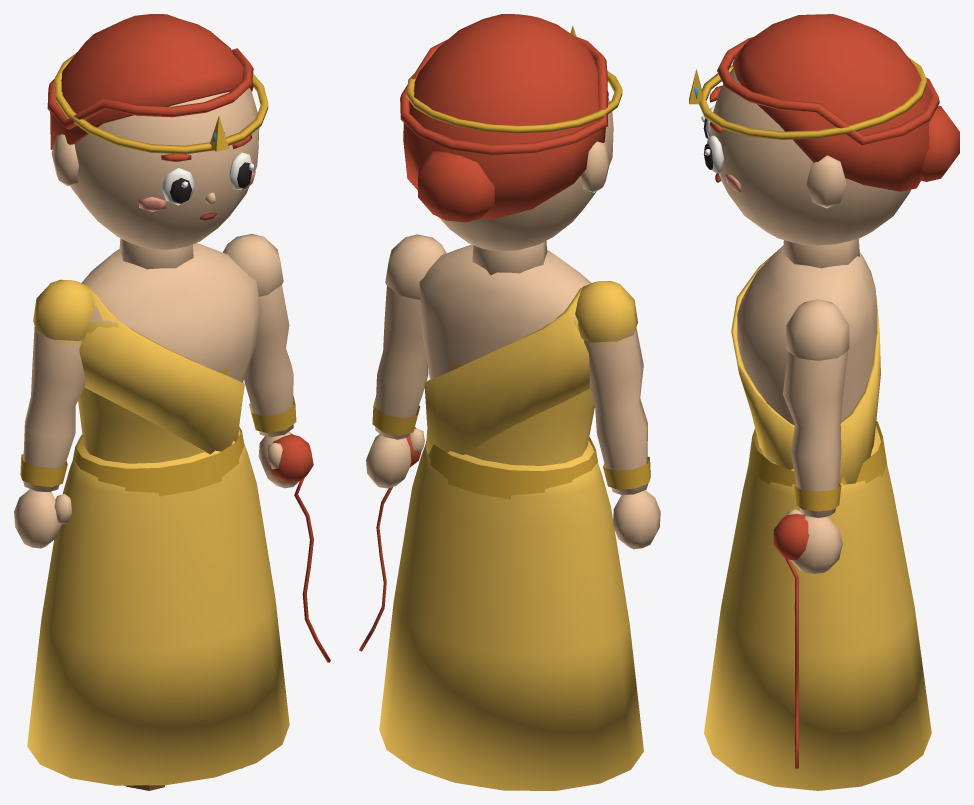
The model's file is ariadne.glb.
3 renders of one model, left to right at view 1: azimuth 30°, elevation 25°; view 2: azimuth 150°, elevation 25°; view 3: azimuth 270°, elevation 25°, orthographic.
Parts seen in each view (by area): view 1: huefte, rumpf, kopf, haare, armL, armR, kopfschmuck, itemR, augeL, augeR; view 2: huefte, rumpf, haare, armL, armR, kopf, kopfschmuck, itemR; view 3: huefte, haare, rumpf, kopf, armR, kopfschmuck, itemR, augeR.
Boxes of the visible parts, x1,y1,x2,y2 form: huefte: [27, 430, 289, 785]; rumpf: [73, 243, 261, 496]; kopf: [51, 88, 259, 269]; haare: [47, 14, 253, 149]; armL: [14, 279, 94, 548]; armR: [223, 234, 298, 488]; kopfschmuck: [54, 52, 268, 154]; itemR: [269, 434, 330, 662]; augeL: [161, 168, 195, 205]; augeR: [229, 152, 253, 189]; huefte: [379, 440, 643, 790]; rumpf: [419, 244, 598, 499]; haare: [400, 14, 608, 222]; armL: [575, 281, 660, 549]; armR: [366, 234, 446, 488]; kopf: [438, 97, 613, 275]; kopfschmuck: [406, 26, 622, 133]; itemR: [359, 427, 420, 651]; huefte: [704, 426, 931, 790]; haare: [717, 14, 959, 191]; rumpf: [731, 245, 886, 486]; kopf: [710, 67, 910, 268]; armR: [783, 299, 849, 574]; kopfschmuck: [689, 57, 926, 139]; itemR: [773, 513, 809, 768]; augeR: [704, 135, 723, 173].
Size of the model in its own units: 0.9988 by 2.29 by 0.7725.
